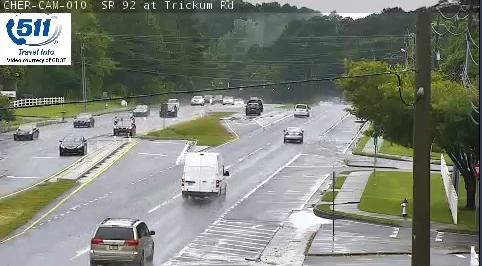car: (90, 219, 155, 265), (284, 127, 303, 142), (294, 104, 309, 116)
van: (182, 151, 225, 197)
